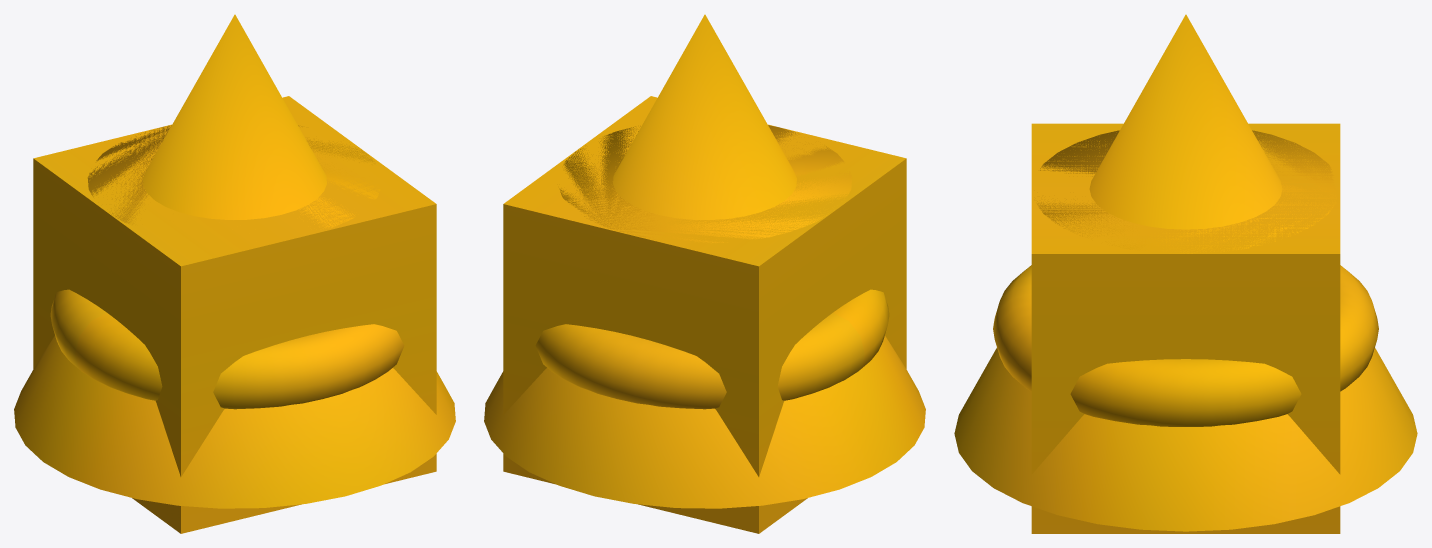
File: Forms.fbx
3 renders of one model, left to right at view 1: azimuth 30°, elevation 25°; view 2: azimuth 150°, elevation 25°; view 3: azimuth 270°, elevation 25°, orthographic. The views are drawn at different scales.
Visible parts, largest first — view 1: CubeG, ConeG, TorusG, CylinderG; view 2: CubeG, ConeG, TorusG, CylinderG; view 3: ConeG, CubeG, TorusG, CylinderG.
Boxes of the visible parts, x1,y1,x2,y2 form: CubeG: (33,96,436,533); ConeG: (14,14,455,508); TorusG: (50,289,404,409); CylinderG: (87,125,380,228); CubeG: (503,96,906,533); ConeG: (484,14,925,508); TorusG: (535,289,889,409); CylinderG: (559,125,852,243); ConeG: (954,14,1417,531); CubeG: (1031,123,1340,533); TorusG: (993,265,1378,426); CylinderG: (1037,130,1336,253).
Bounding box in the file's own units: 300 × 325 × 300.
